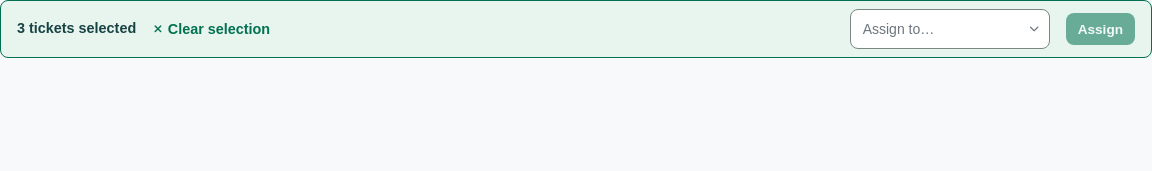
Scenario: when the assignee list could not be loaded › says so instead of opening on a list that looks complete
The width and height of the screenshot is (1152, 171).
Step 1. Press the mouse on the element named "Assign to" → (950, 29), box [850,9,1050,49]
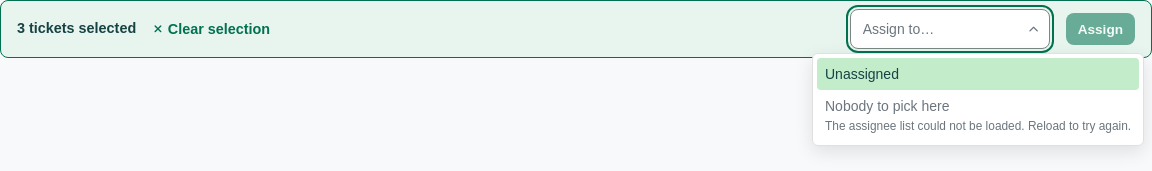
Check: the text with class "app-select__detail" reads "The assignee list could not be loaded. Reload to try again.", box [825,119,1131,133]
